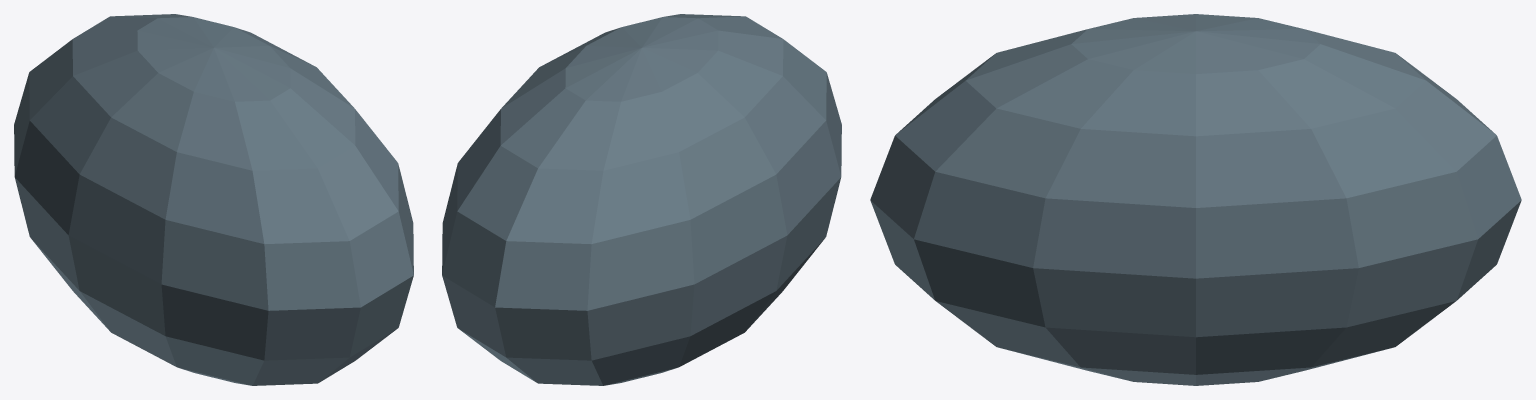
Rendered from equipment-depth-charge.lod0.glb.
The picture shows the model from 3 angles, left to right: view 1: azimuth 30°, elevation 25°; view 2: azimuth 150°, elevation 25°; view 3: azimuth 270°, elevation 25°; orthographic projection. The views are drawn at different scales.
Parts seen in each view (by area): view 1: equipment-depth-charge__body; view 2: equipment-depth-charge__body; view 3: equipment-depth-charge__body.
Boxes of the visible parts, x1,y1,x2,y2 form: equipment-depth-charge__body: [14, 14, 413, 385]; equipment-depth-charge__body: [442, 14, 841, 385]; equipment-depth-charge__body: [870, 14, 1521, 385].
Size of the model in its own units: 0.4 by 0.4 by 0.7.
